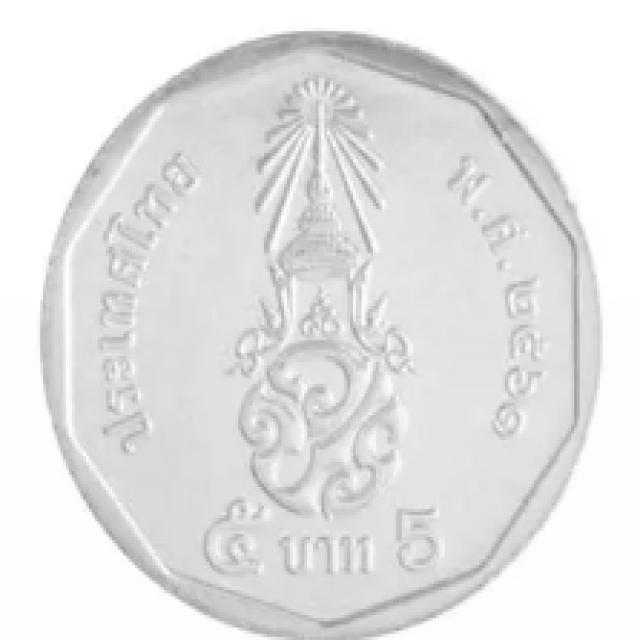5 Bath: (22, 4, 611, 638)
